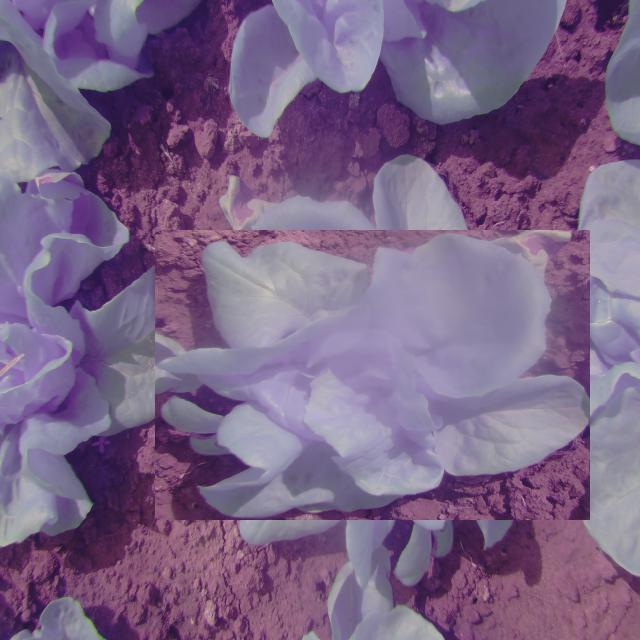vege: (191, 194, 555, 556)
